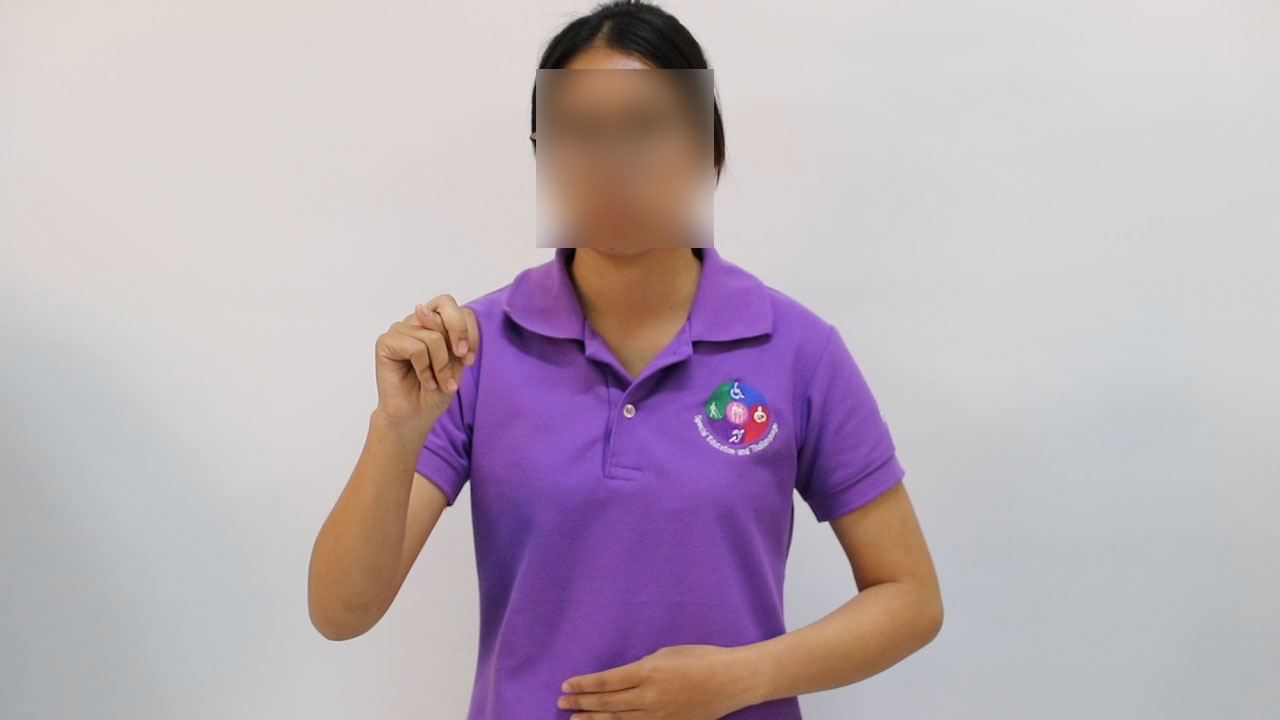nor: (360, 286, 491, 421)
